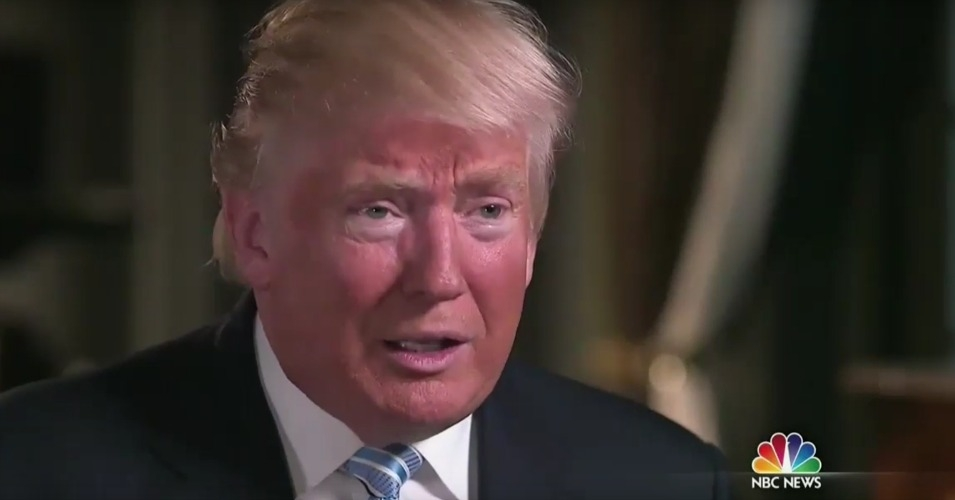sad: (263, 102, 557, 446)
